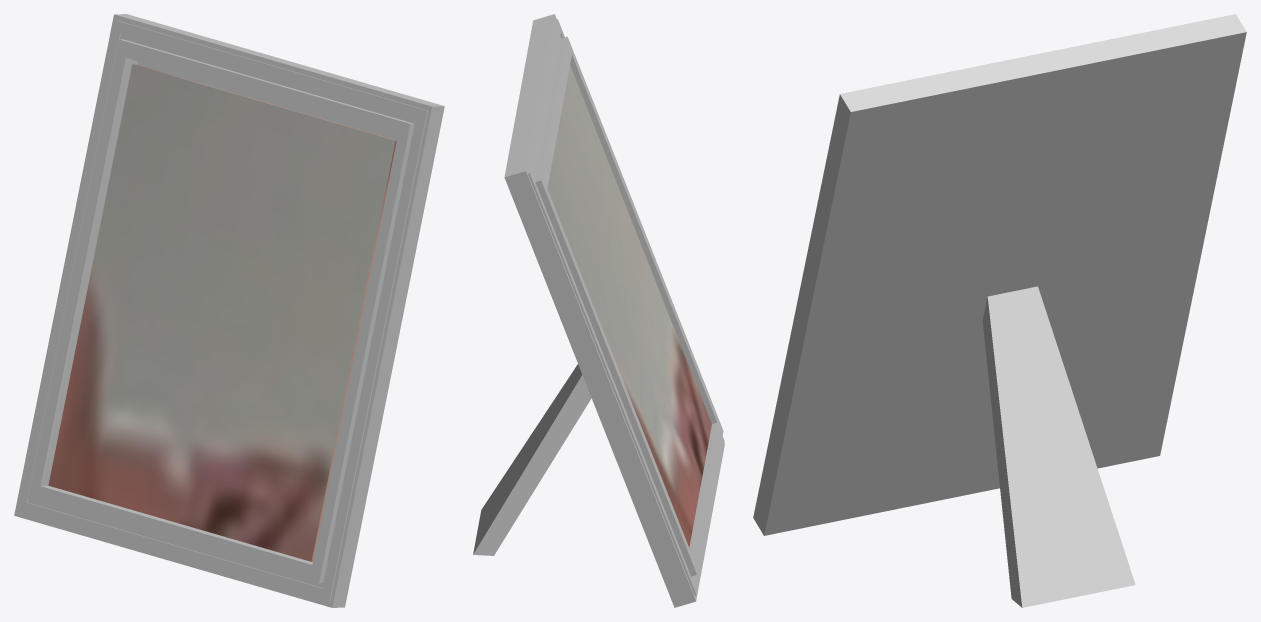
The model's file is Picture Frame .fbx.
3 renders of one model, left to right at view 1: azimuth 30°, elevation 25°; view 2: azimuth 150°, elevation 25°; view 3: azimuth 270°, elevation 25°, orthographic. The views are drawn at different scales.
Visible parts, largest first — view 1: Plane.002, Plane.001; view 2: Plane.001, Plane.002; view 3: Plane.001.
Boxes of the visible parts, bbox=[...] form: Plane.002: bbox=[48, 64, 396, 561]; Plane.001: bbox=[14, 14, 444, 607]; Plane.001: bbox=[473, 14, 724, 607]; Plane.002: bbox=[547, 65, 711, 547]; Plane.001: bbox=[753, 14, 1246, 607].
Bounding box in the file's own units: 66.08 × 95.68 × 82.87.
2 materials, 1 textured.
